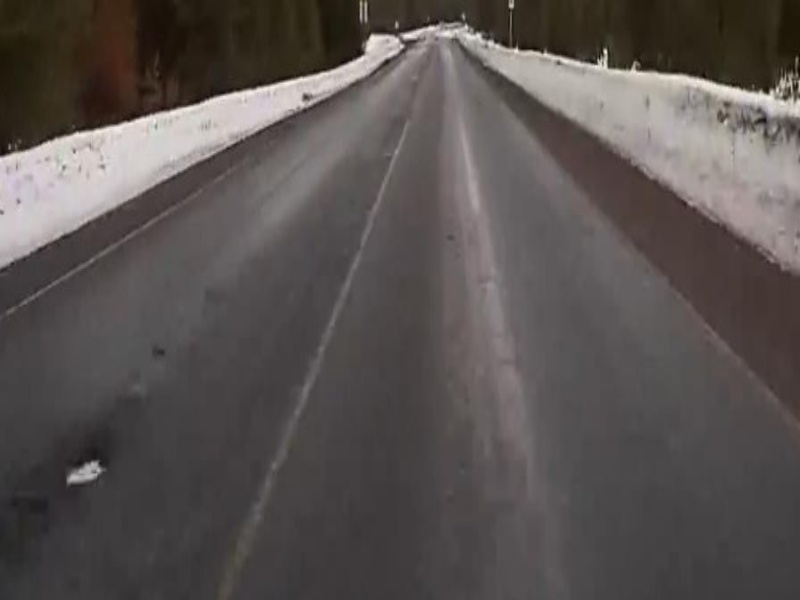pothole: (62, 452, 106, 489)
